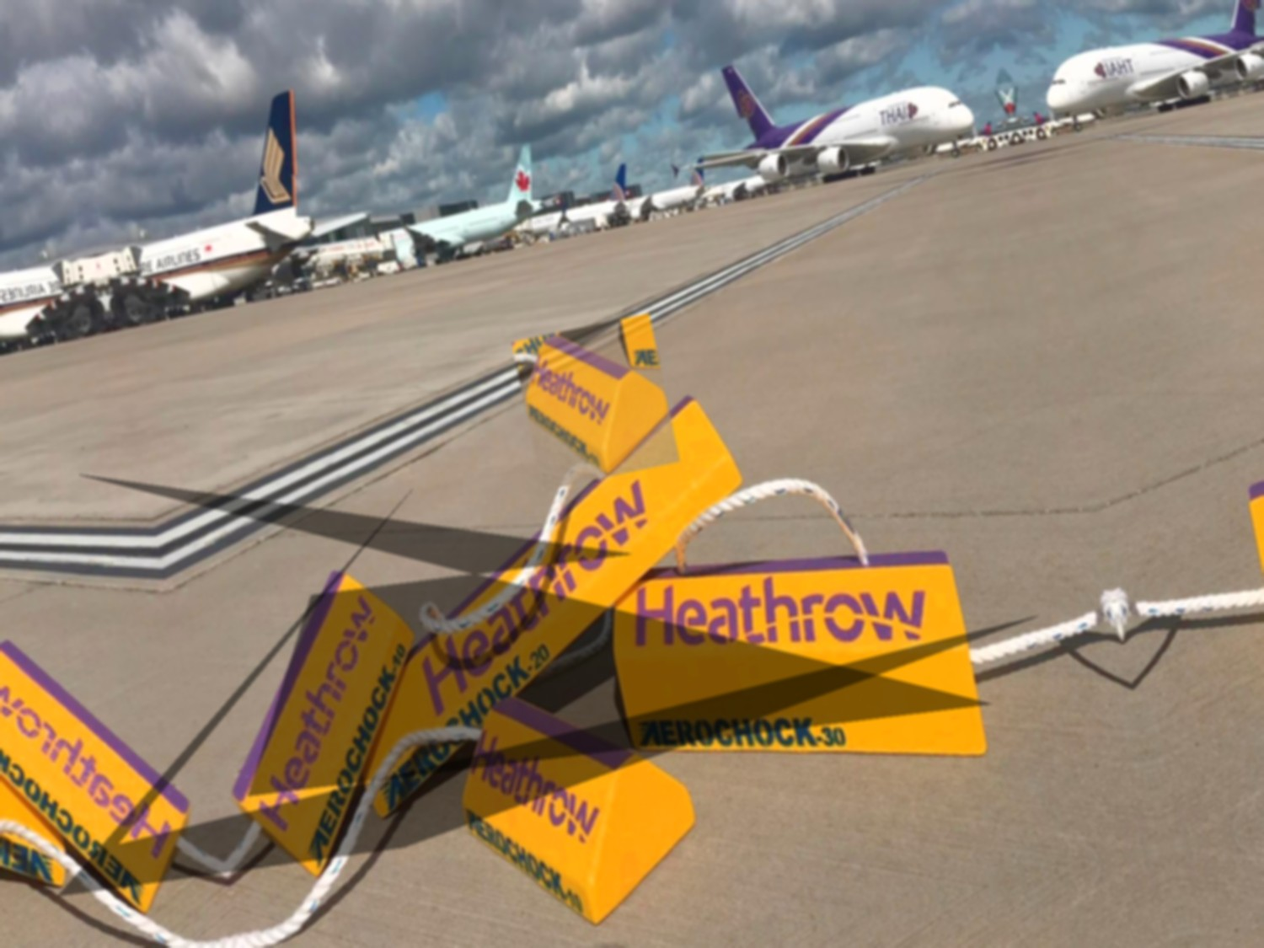chock: (289, 382, 796, 823), (591, 492, 994, 828), (184, 548, 460, 894), (439, 661, 715, 948), (0, 600, 215, 945), (511, 313, 680, 491)
